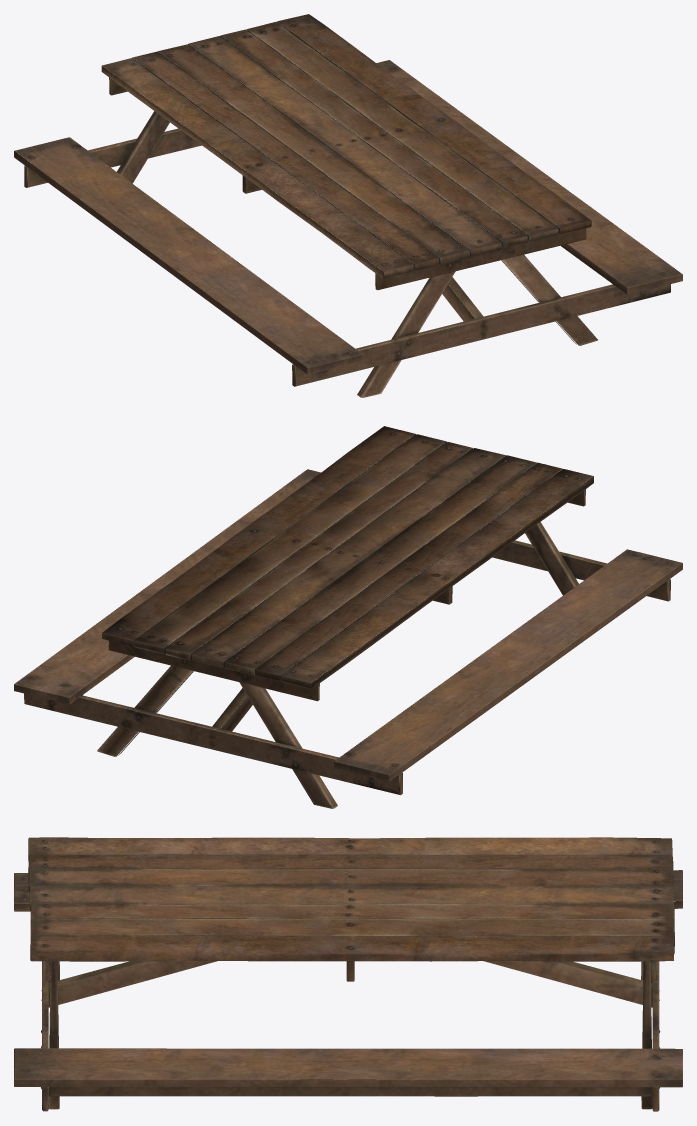
Rendered from picnic_table.glb.
3 views of the same model, one above another, from view 1: azimuth 30°, elevation 25°; view 2: azimuth 150°, elevation 25°; view 3: azimuth 270°, elevation 25° (orthographic). The views are drawn at different scales.
Visible parts, largest first — view 1: picnic_table; view 2: picnic_table; view 3: picnic_table.
Part boxes in pixels (x1,y1,x2,y2): picnic_table: (14,14,682,397); picnic_table: (14,426,682,808); picnic_table: (14,837,682,1111).
Bounding box in the file's own units: 0.112 × 0.0373 × 0.1511.
Materials: 2 (2 with a texture image).
